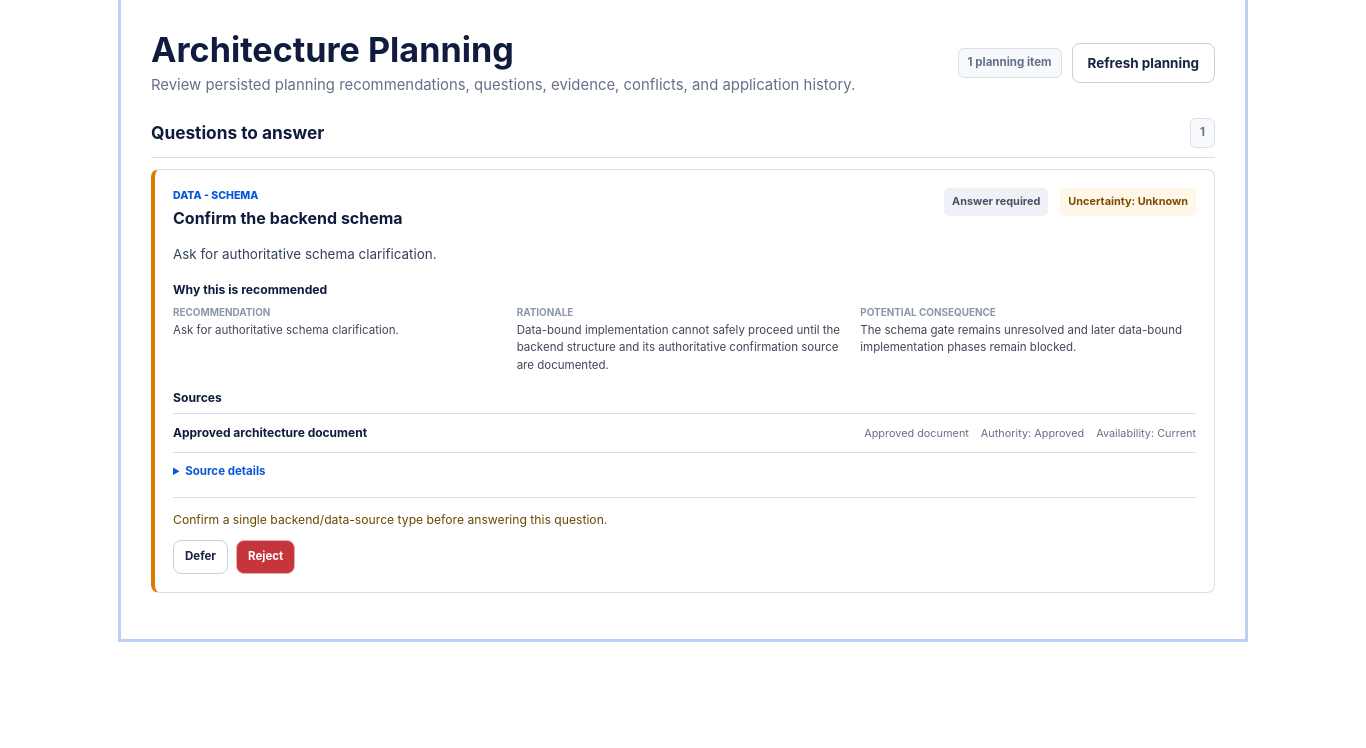
Scenario: PlanningView › keeps focus in the decision form and hides raw unexpected errors
Step 1. Click the button "Reject" → (266,556), box [236,540,295,574]
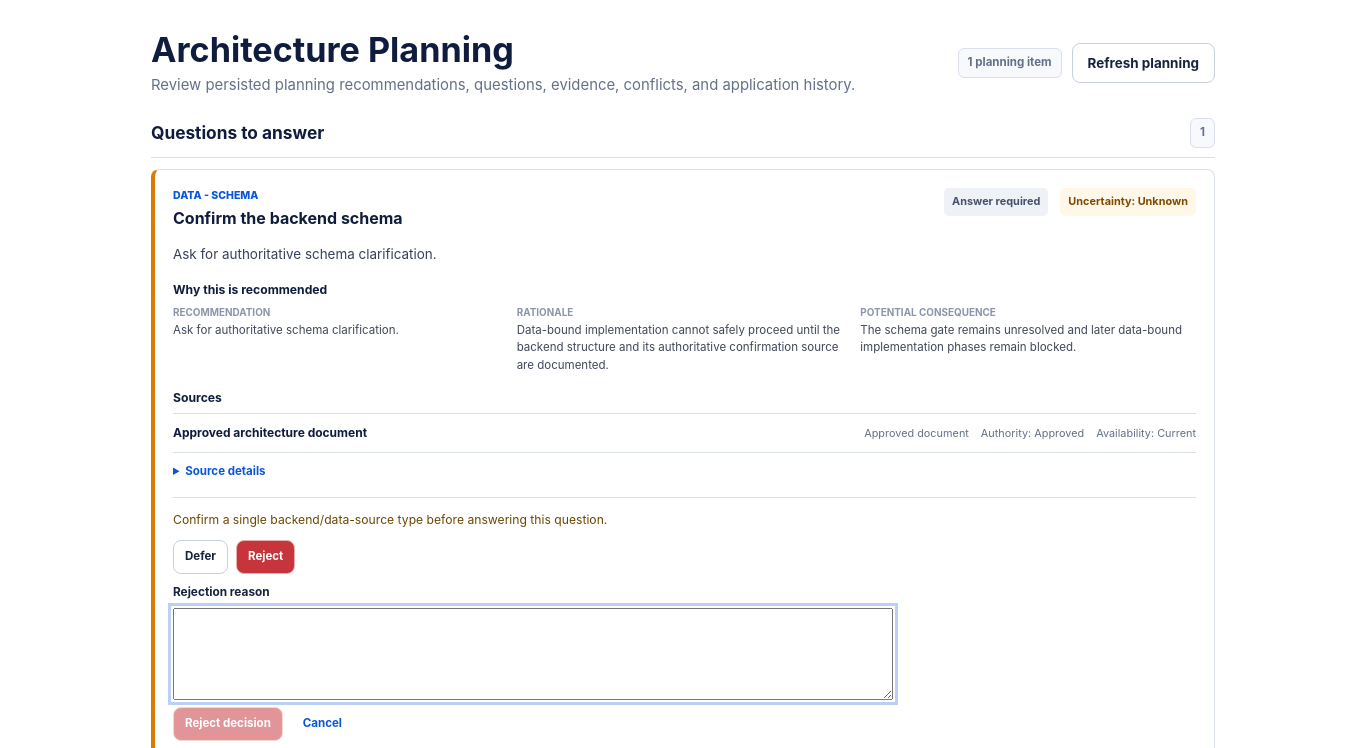
Step 2. Type "Preserve this rejection reason." into the text box labelled "Rejection reason" → (533,654), box [173,608,893,700]
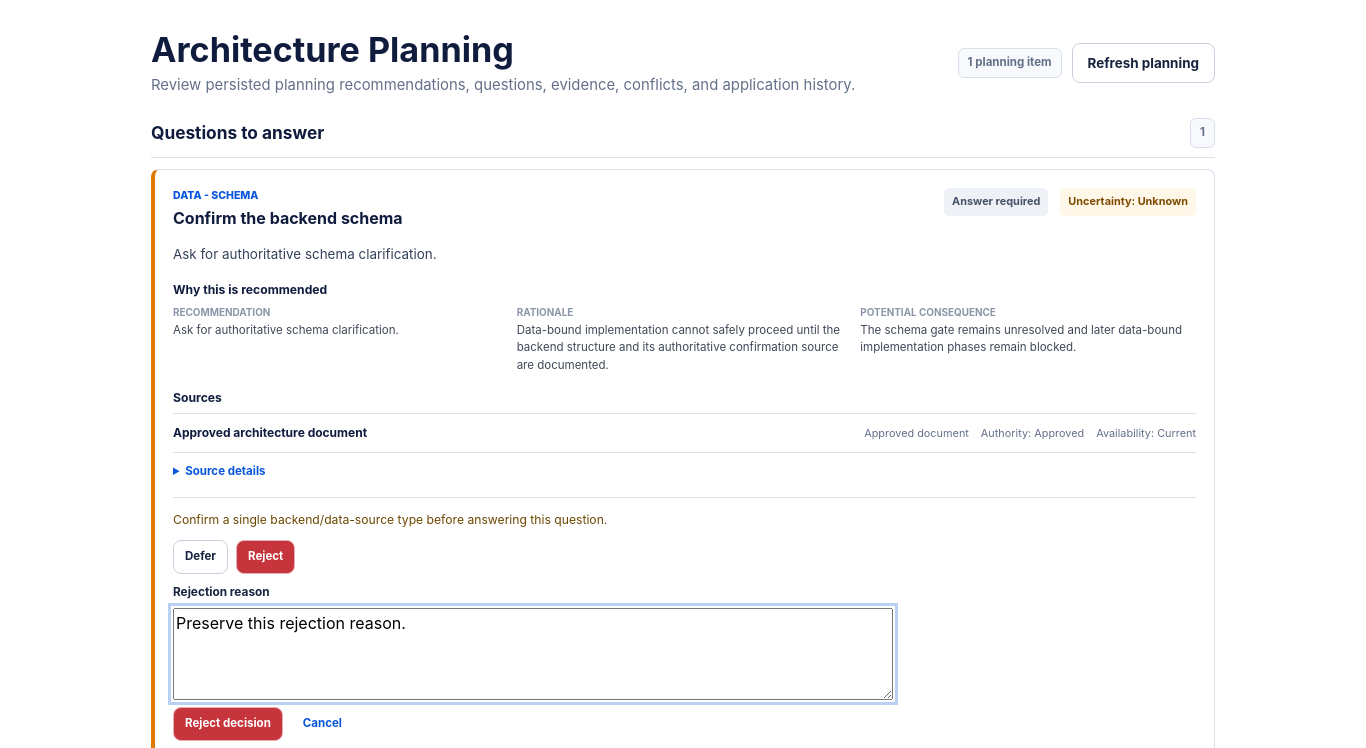
Step 3. Click the button "Reject decision" → (228,724), box [173,707,283,741]
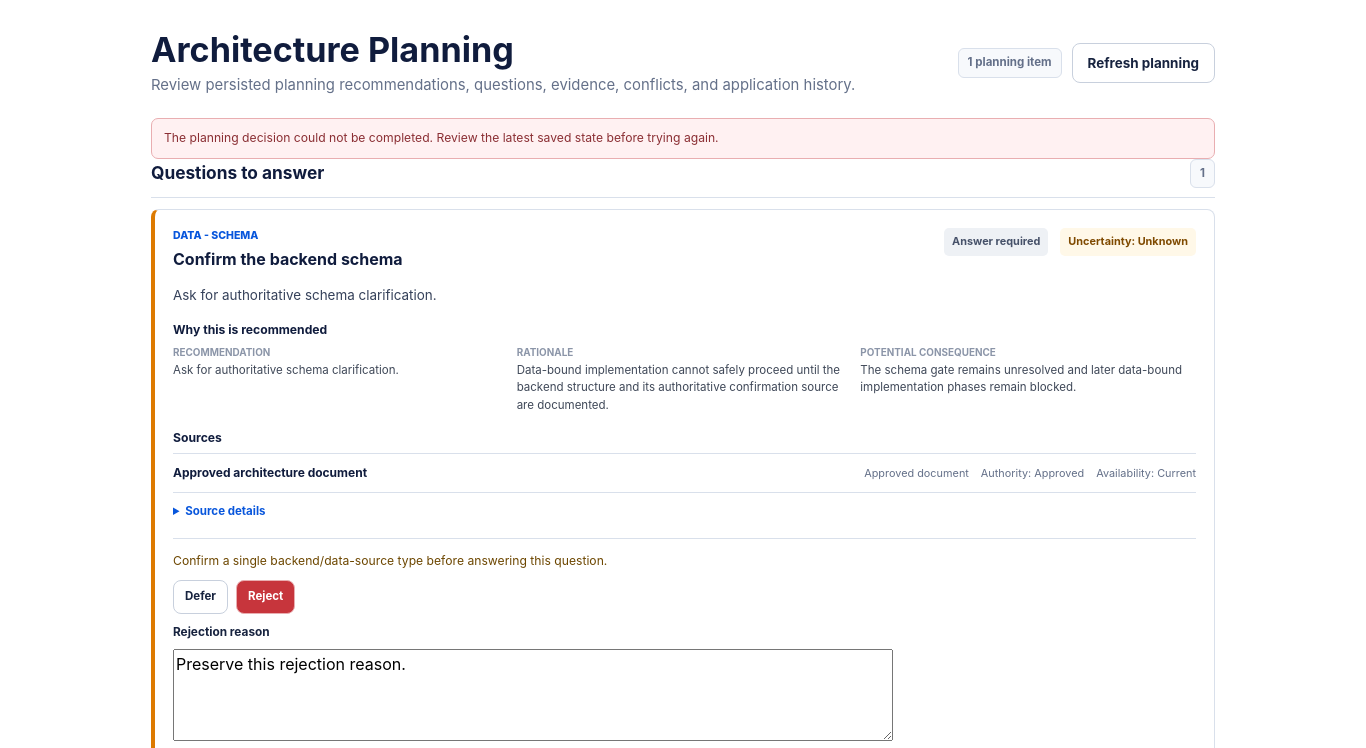
Now the message shows "The planning decision could not be completed. Review the latest saved state before trying again.", box [164,130,719,145]
